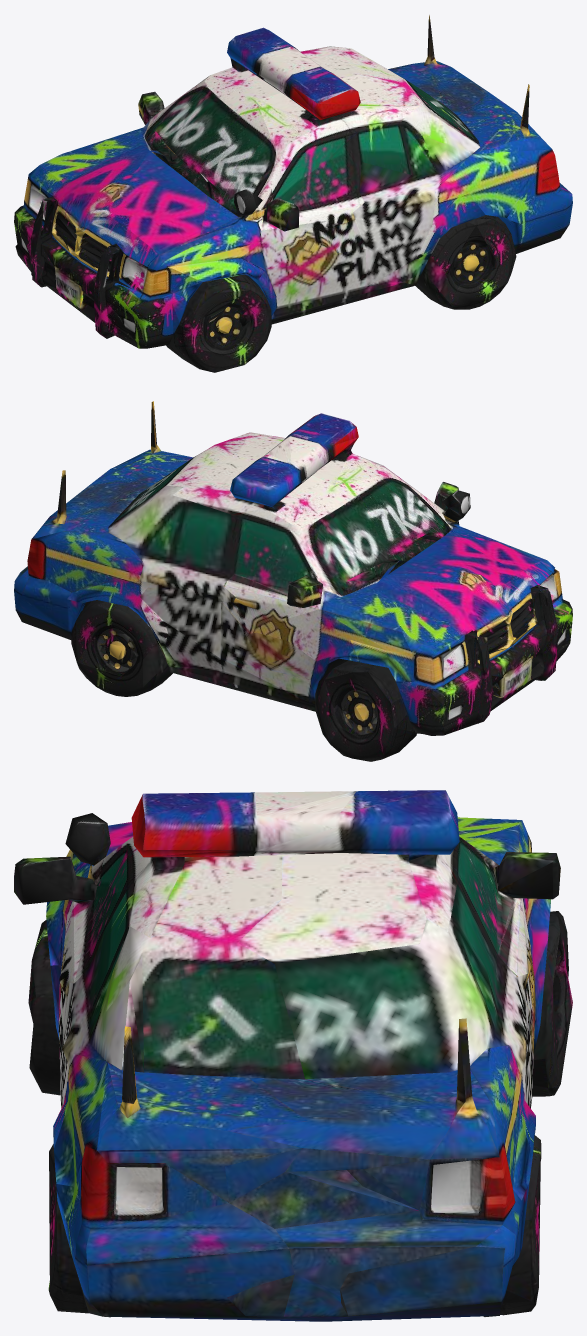
The model's file is oink-patrol.glb.
3 renders of one model, top to bottom at view 1: azimuth 30°, elevation 25°; view 2: azimuth 150°, elevation 25°; view 3: azimuth 270°, elevation 25°, orthographic. The views are drawn at different scales.
Parts seen in each view (by area): view 1: Mesh_0; view 2: Mesh_0; view 3: Mesh_0.
Boxes of the visible parts, x1,y1,x2,y2 form: Mesh_0: [14, 15, 572, 372]; Mesh_0: [14, 401, 572, 761]; Mesh_0: [14, 790, 572, 1321].
Bounding box in the file's own units: 1.9 × 0.9003 × 1.12.
Materials: 1 (1 with a texture image).
